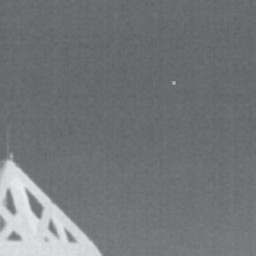Target: (170, 78, 177, 87)
